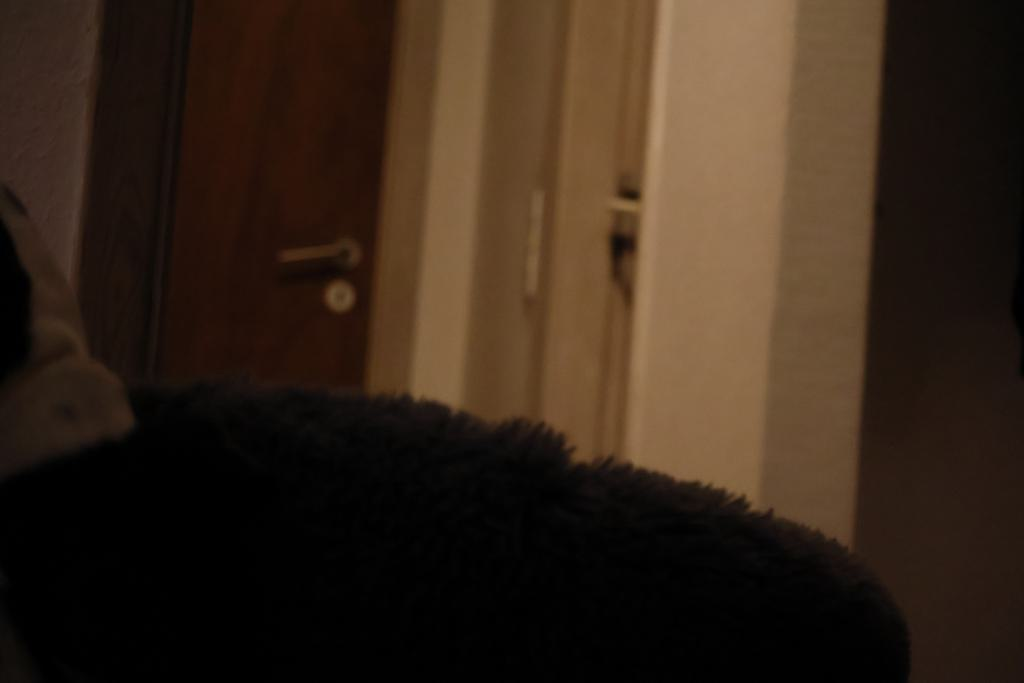Dog: (0, 168, 253, 683)
